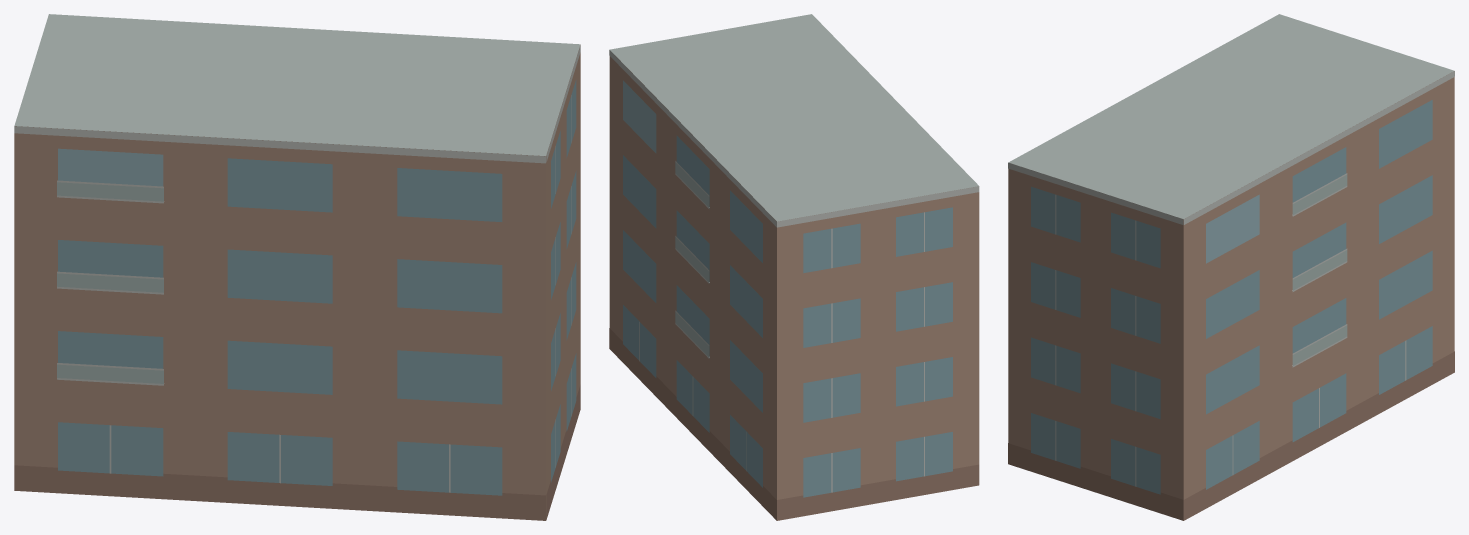
The model's file is survey-upis-32817271.glb.
The picture shows the model from 3 angles, left to right: view 1: azimuth 30°, elevation 25°; view 2: azimuth 150°, elevation 25°; view 3: azimuth 270°, elevation 25°; orthographic projection. The views are drawn at different scales.
Parts seen in each view (by area): view 1: survey-upis-32817271.tmp; view 2: survey-upis-32817271.tmp; view 3: survey-upis-32817271.tmp.
Boxes of the visible parts, x1,y1,x2,y2 form: survey-upis-32817271.tmp: [14, 14, 580, 520]; survey-upis-32817271.tmp: [609, 14, 979, 520]; survey-upis-32817271.tmp: [1008, 14, 1454, 520].
Bounding box in the file's own units: 17.81 × 12.2 × 16.38.
